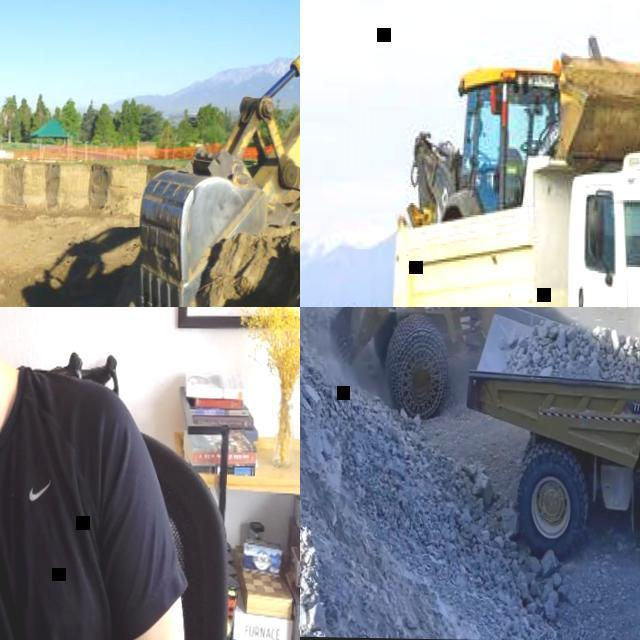machinery: (460, 307, 640, 575), (131, 22, 300, 307), (403, 33, 640, 232), (387, 137, 640, 307), (314, 307, 607, 425)
no_vest: (0, 366, 119, 640)
person: (0, 307, 201, 640)
